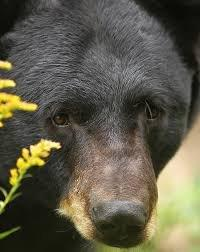bear: (0, 0, 200, 247)
